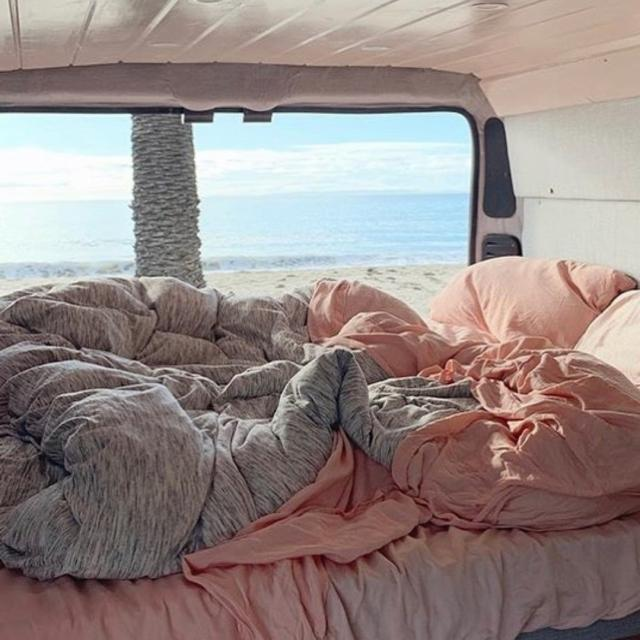bed: (6, 231, 640, 640)
